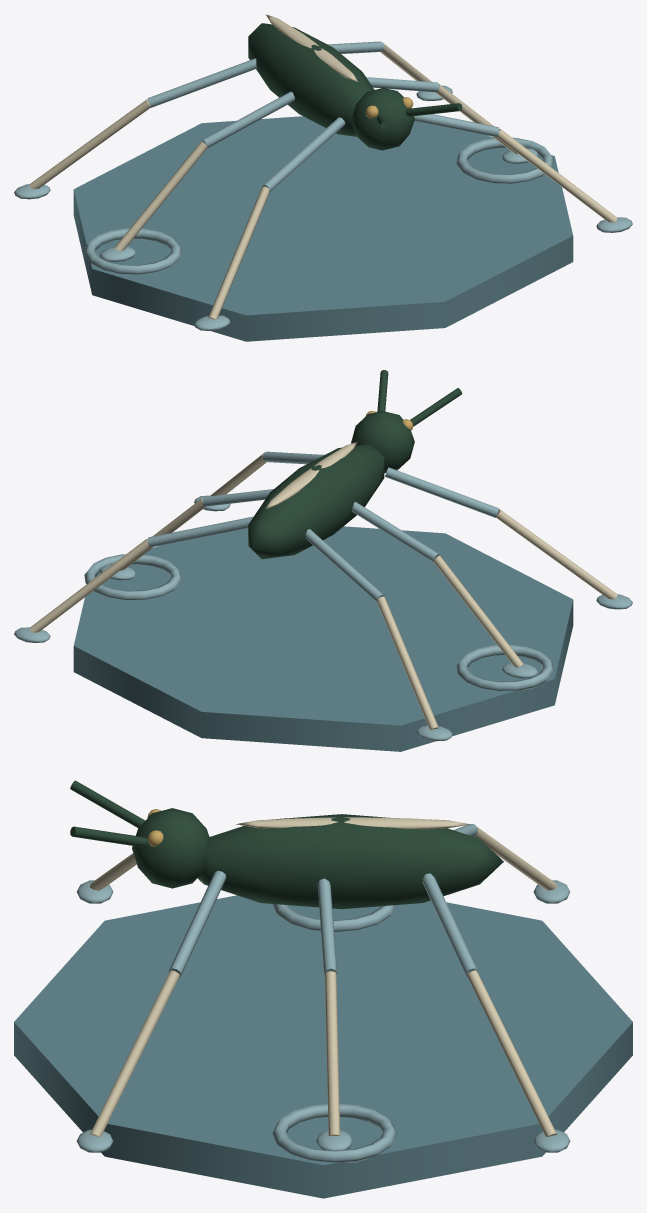
The model's file is discovery-waterbeetle.glb.
3 views of the same model, one above another, from view 1: azimuth 30°, elevation 25°; view 2: azimuth 150°, elevation 25°; view 3: azimuth 270°, elevation 25° (orthographic). The views are drawn at different scales.
Visible parts, largest first — view 1: discovery-waterbeetle-visual; view 2: discovery-waterbeetle-visual; view 3: discovery-waterbeetle-visual.
Boxes of the visible parts, bbox=[...] form: discovery-waterbeetle-visual: bbox=[14, 14, 632, 341]; discovery-waterbeetle-visual: bbox=[14, 370, 632, 751]; discovery-waterbeetle-visual: bbox=[14, 780, 632, 1198].
Bounding box in the file's own units: 0.92 × 0.3763 × 0.84.
